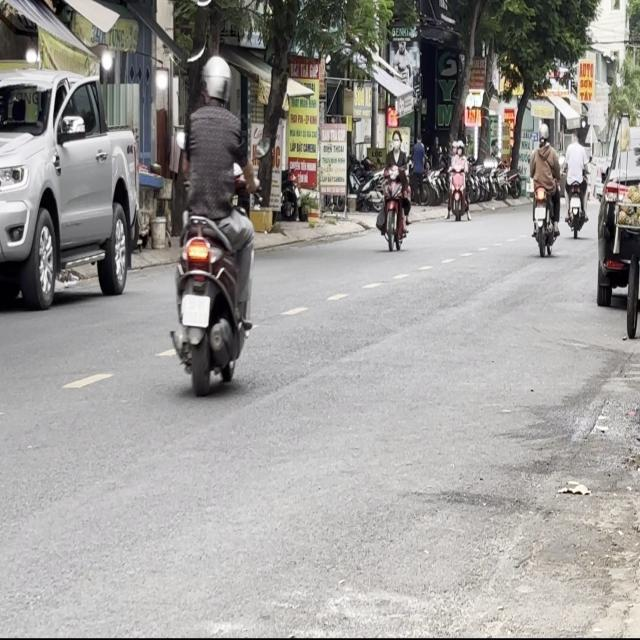helmet: (201, 54, 232, 106), (536, 121, 548, 142)
licenseplate: (168, 52, 256, 398)
nohelmet: (181, 293, 210, 327), (534, 205, 544, 218)
